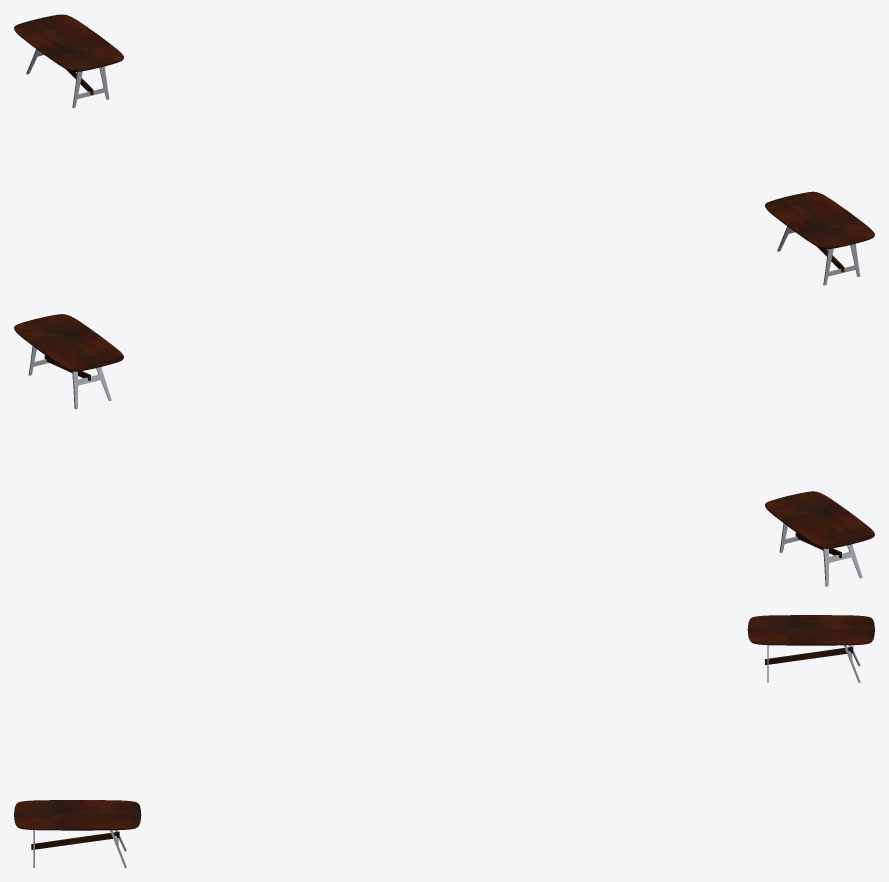
Rendered from table1.glb.
3 renders of one model, top to bottom at view 1: azimuth 30°, elevation 25°; view 2: azimuth 210°, elevation 25°; view 3: azimuth 270°, elevation 25°, orthographic.
Visible parts, largest first — view 1: Slot t.003, Slot t.002; view 2: Slot t.003, Slot t.002; view 3: Slot t.002, Slot t.003.
Part boxes in pixels (box(x1,y1,x2,y2)): Slot t.003: box(14, 14, 123, 107); Slot t.002: box(765, 191, 874, 285); Slot t.003: box(765, 491, 874, 586); Slot t.002: box(14, 314, 123, 409); Slot t.002: box(14, 800, 141, 867); Slot t.003: box(747, 615, 874, 682).
Bounding box in the file's own units: 7.93 × 0.7744 × 13.49.
2 materials, 2 textured.
